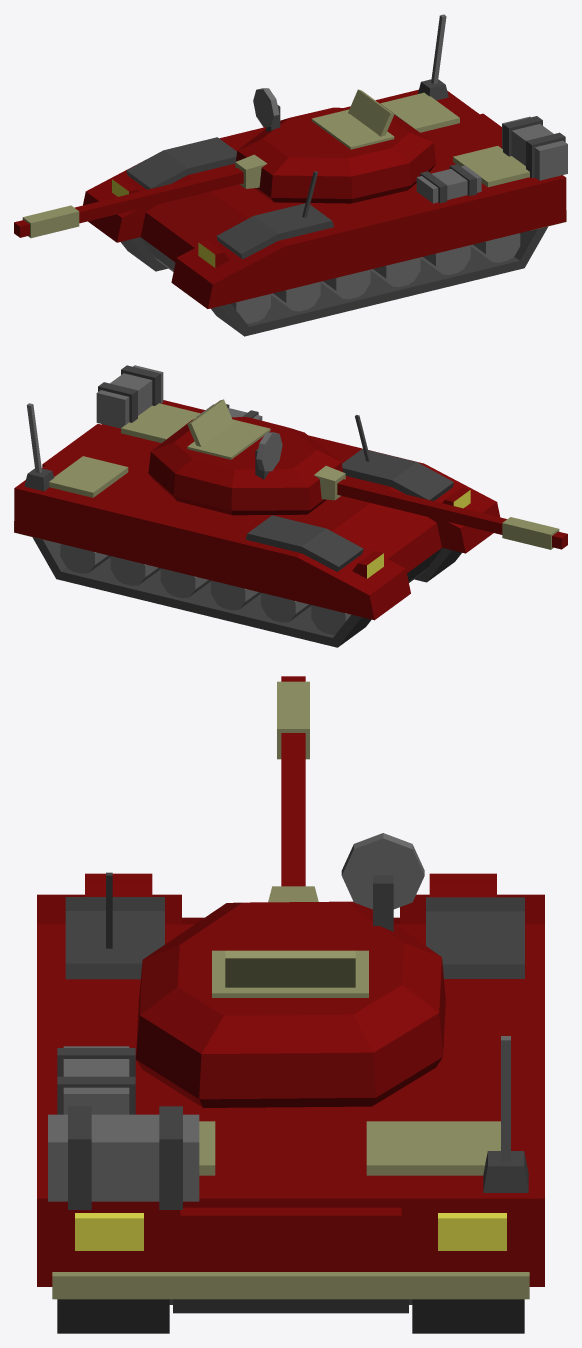
File: tank_red_0.glb
The picture shows the model from 3 angles, top to bottom: view 1: azimuth 30°, elevation 25°; view 2: azimuth 150°, elevation 25°; view 3: azimuth 270°, elevation 25°; orthographic projection. The views are drawn at different scales.
Visible parts, largest first — view 1: Cube.002; view 2: Cube.002; view 3: Cube.002.
Boxes of the visible parts, x1,y1,x2,y2 form: Cube.002: (14,14,567,336); Cube.002: (14,365,567,647); Cube.002: (37,676,544,1333).
Bounding box in the file's own units: 1 × 0.3154 × 0.4462.
